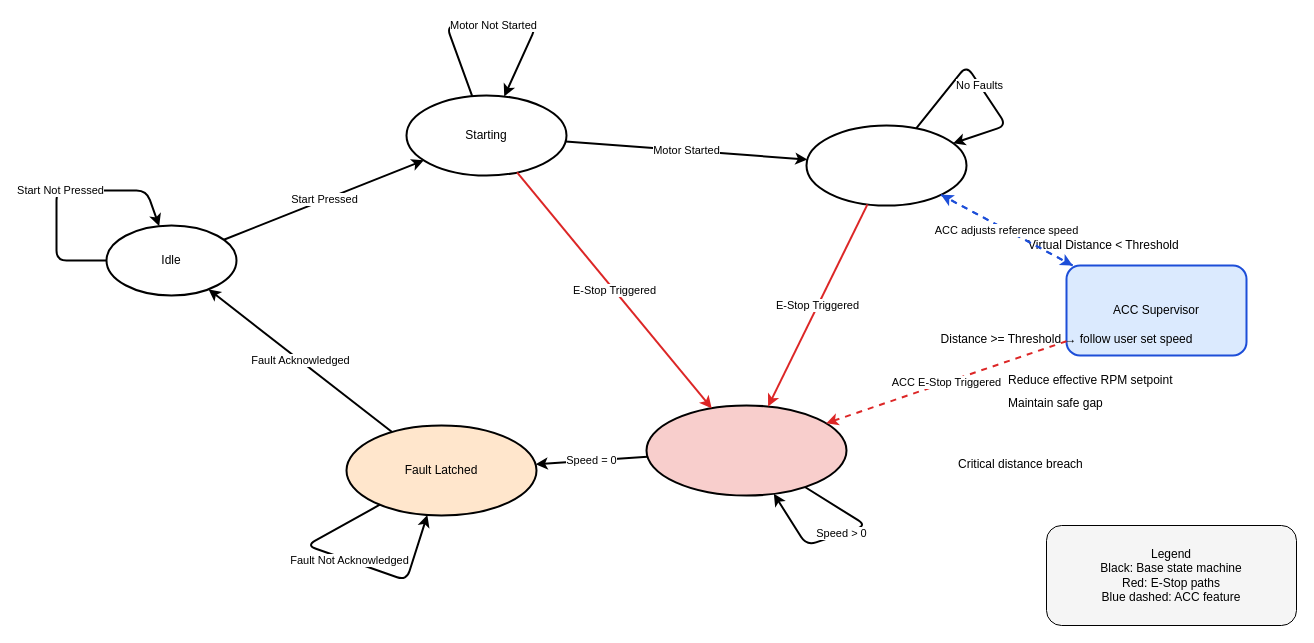
This 1314x643 diagram has some shape labels left out. Each missing label, with the centre of its shape:
"E-Stop Braking" goes at (746,450).
"Running" goes at (886,165).
